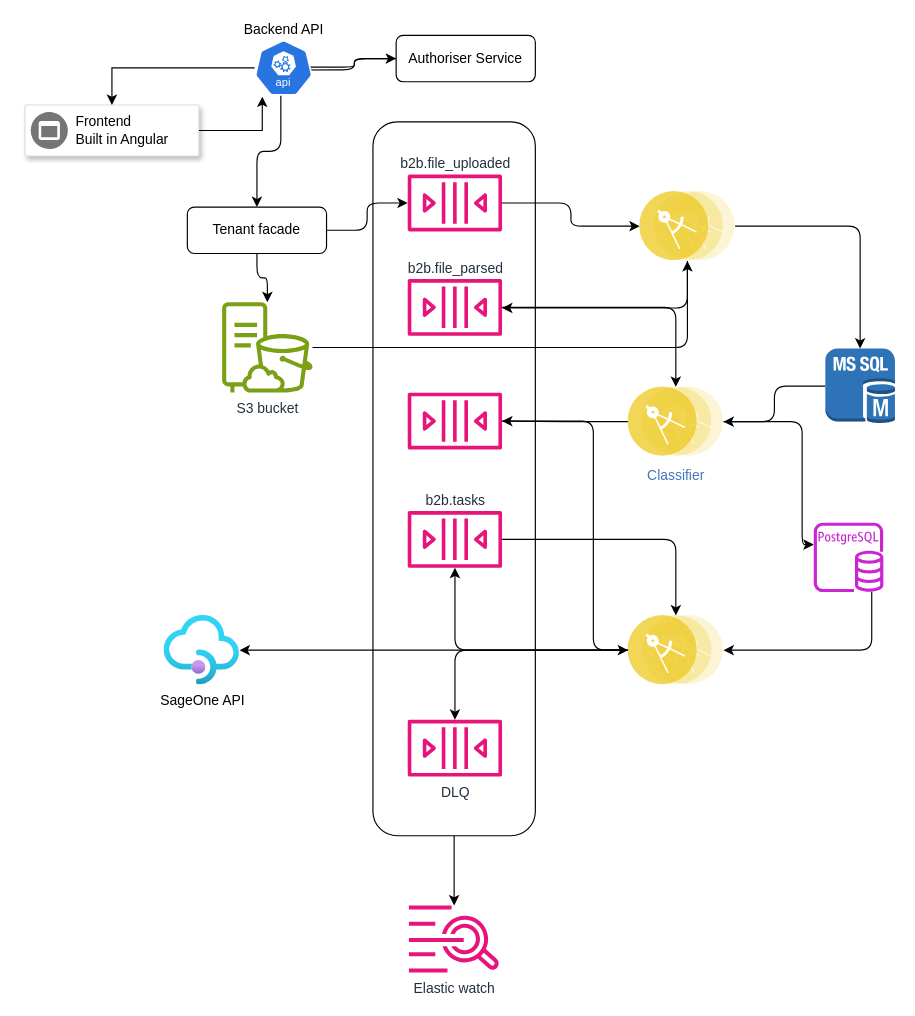
Some shapes in this 915 by 1016 pixel diagram are drawn without their labels. Each missing label, with the centre of its shape:
"Process Engine" goes at pixel 675 649.
"records.classified" goes at pixel 454 420.
"Staging Processor" goes at pixel 687 225.
"Tasks db" goes at pixel 848 557.
"Tenant db" goes at pixel 859 385.
